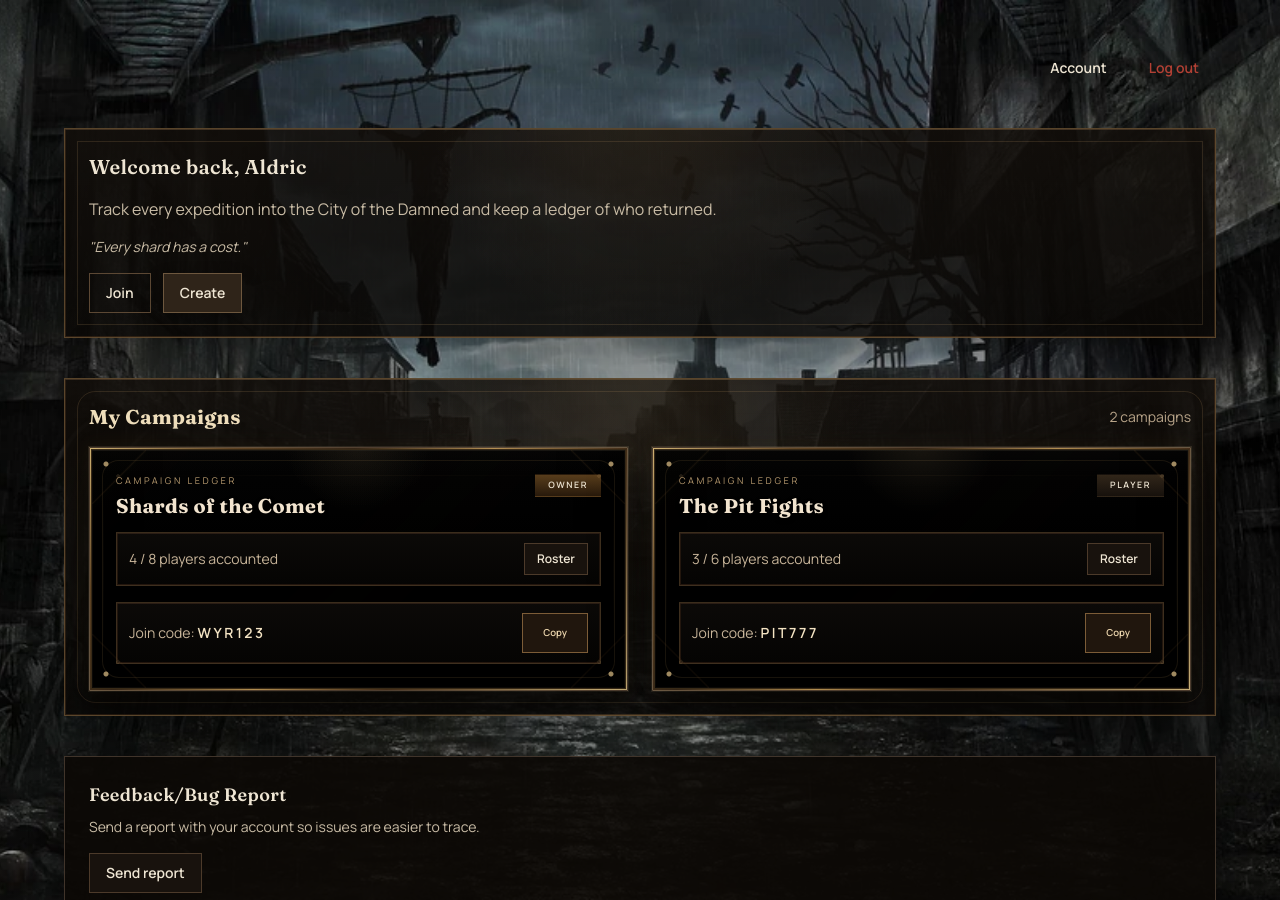
it: Feedback on the campaigns page (CAMP-NEW-08) › sends a report without campaign fields and thanks you
The width and height of the screenshot is (1280, 900).
Expected: the text "2 campaigns" is shown, 1110,407 -> 1191,427
Click the button "Send report". click: (145, 873)
box: 89,853 -> 202,893
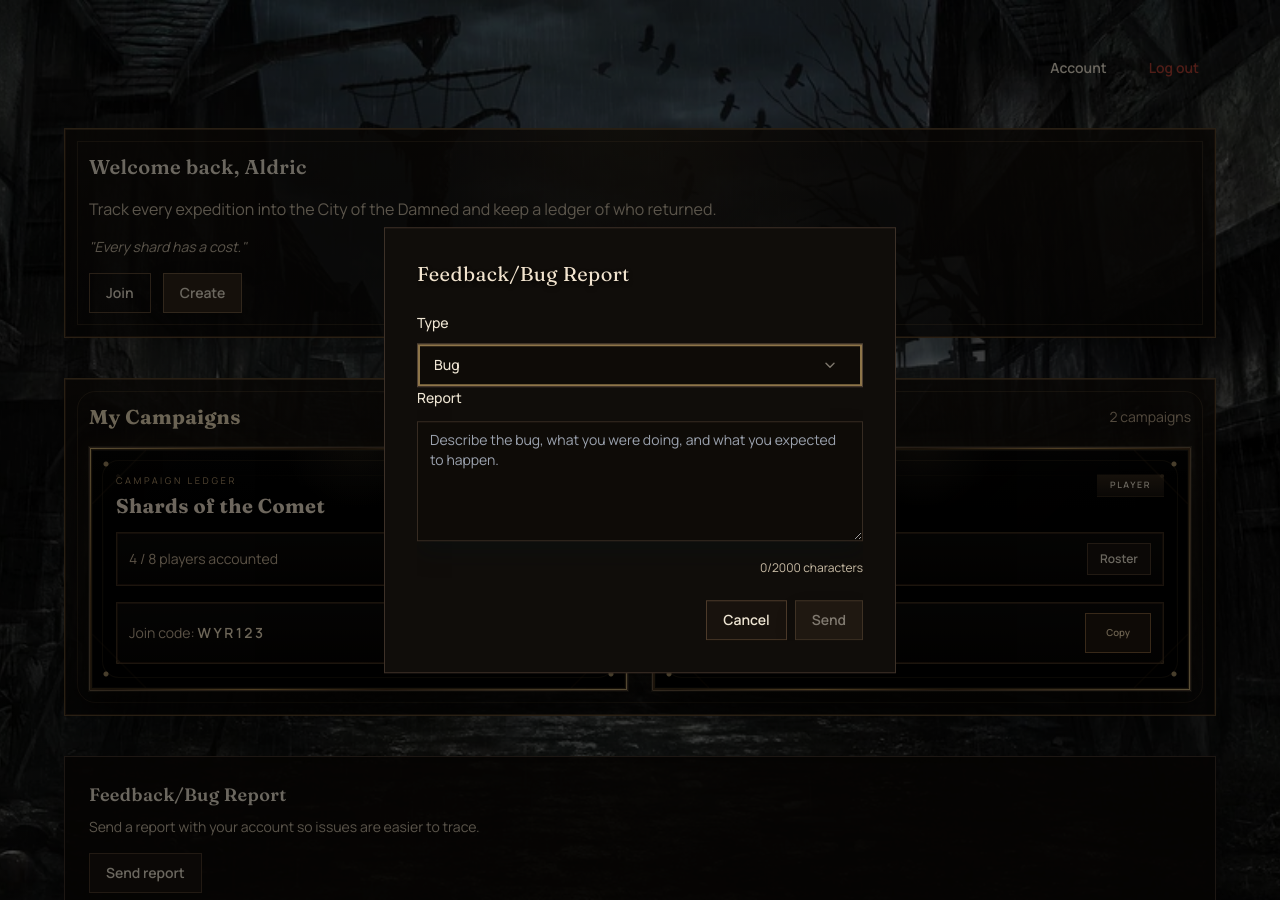
Type "The list is slow" into the text box labelled "Report". click: (640, 481)
box: 417,421 -> 863,541
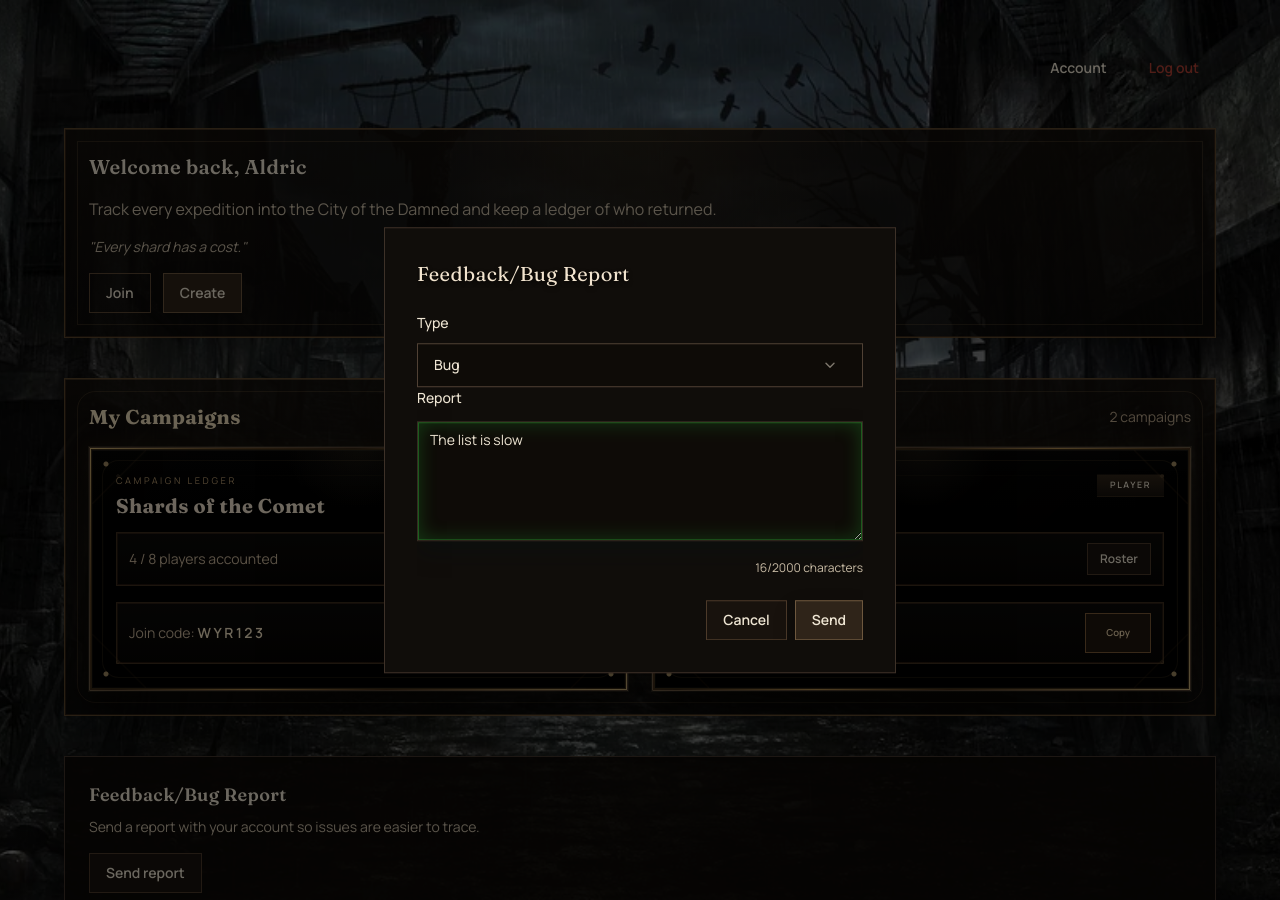
Click the button "Send". click: (829, 620)
box: 795,600 -> 863,640
(page scrolled)
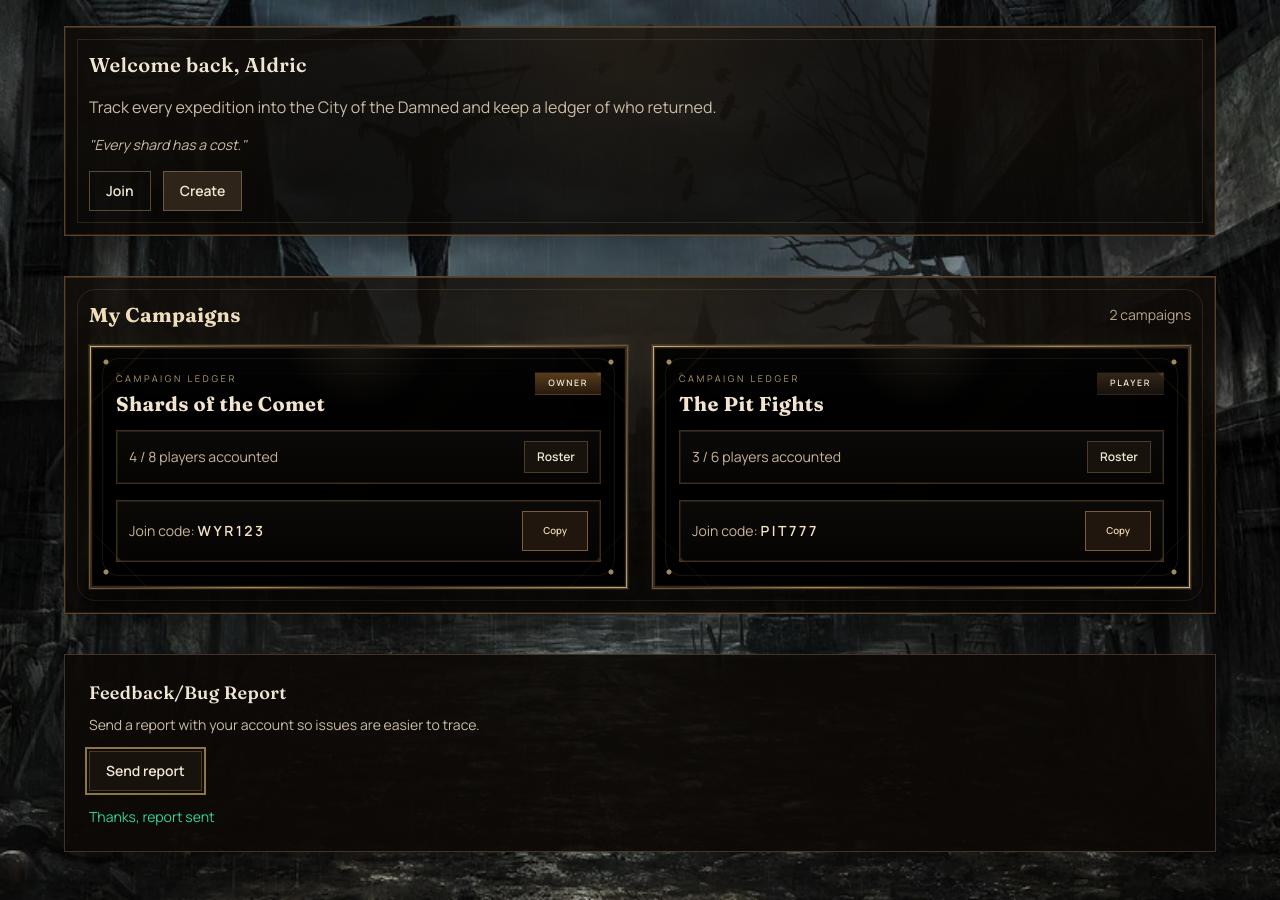
Expected: the text "Thanks, report sent" is shown, 89,807 -> 215,826
